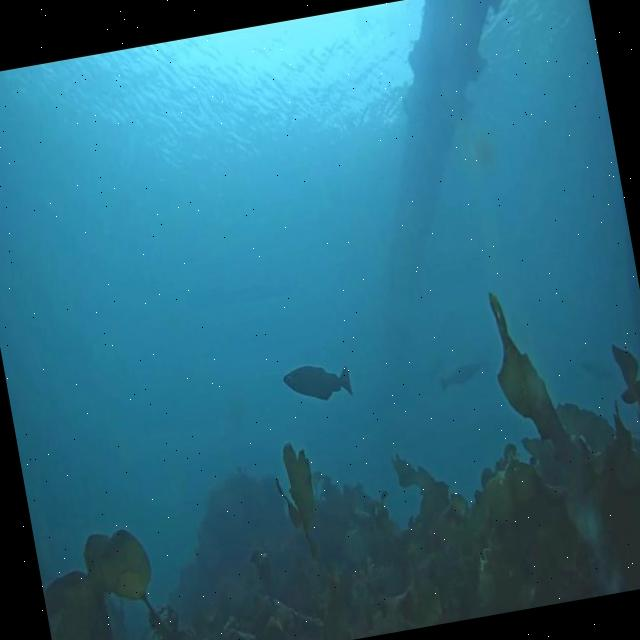fish: (280, 356, 352, 412), (437, 359, 485, 394)
